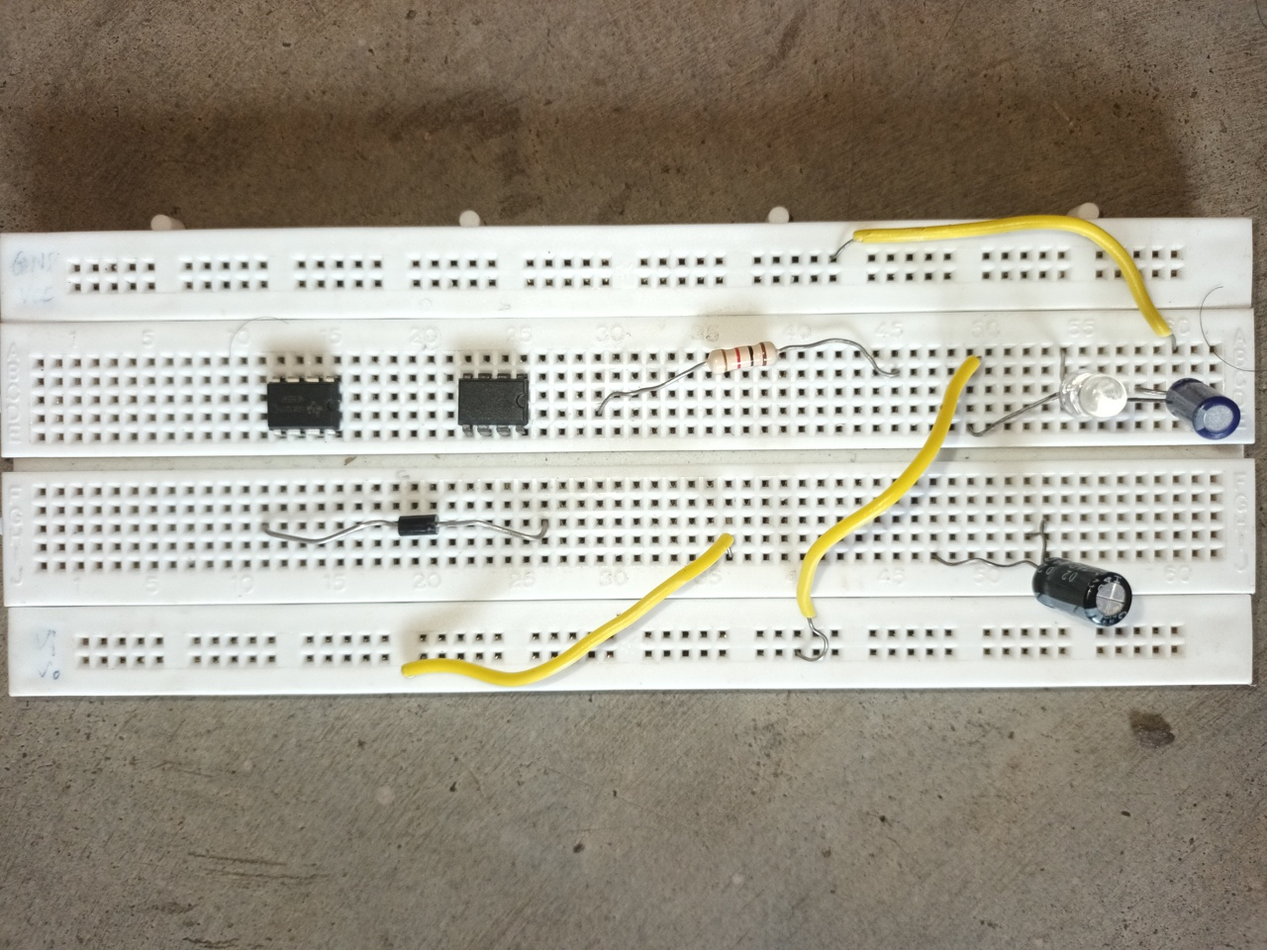capacitor: (1032, 556, 1134, 628), (1164, 377, 1242, 440)
resistor: (705, 340, 779, 378)
